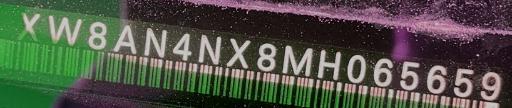letter: (44, 13, 82, 46), (282, 45, 316, 75), (16, 9, 42, 42), (315, 49, 343, 79), (85, 20, 111, 49), (112, 25, 138, 54), (424, 63, 448, 94), (144, 27, 168, 57), (198, 33, 222, 63), (228, 38, 252, 68), (398, 59, 422, 88), (479, 70, 503, 99), (254, 42, 278, 70), (372, 57, 394, 86), (452, 67, 474, 96), (172, 30, 192, 60), (347, 54, 369, 81)
